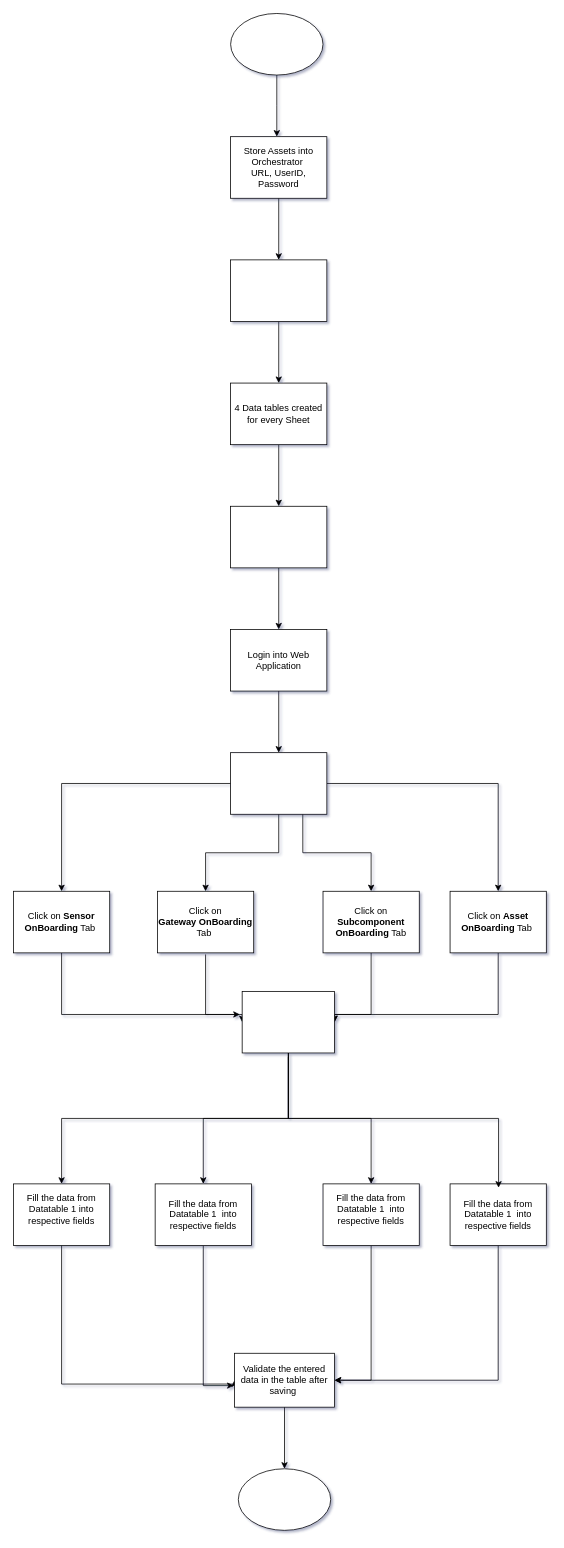
Image size: 564x1548. Some labels were removed from this diagram. The centre of each missing label's shape, as x and y in pixels:
Click on Add Button: the point at 288,1022
END: the point at 284,1499
Get Assets from Orchestrator: the point at 278,537
Navigate to On Boarding Screens Tab: the point at 278,783
Read the input data from Excel: the point at 278,290
START: the point at 276,44
